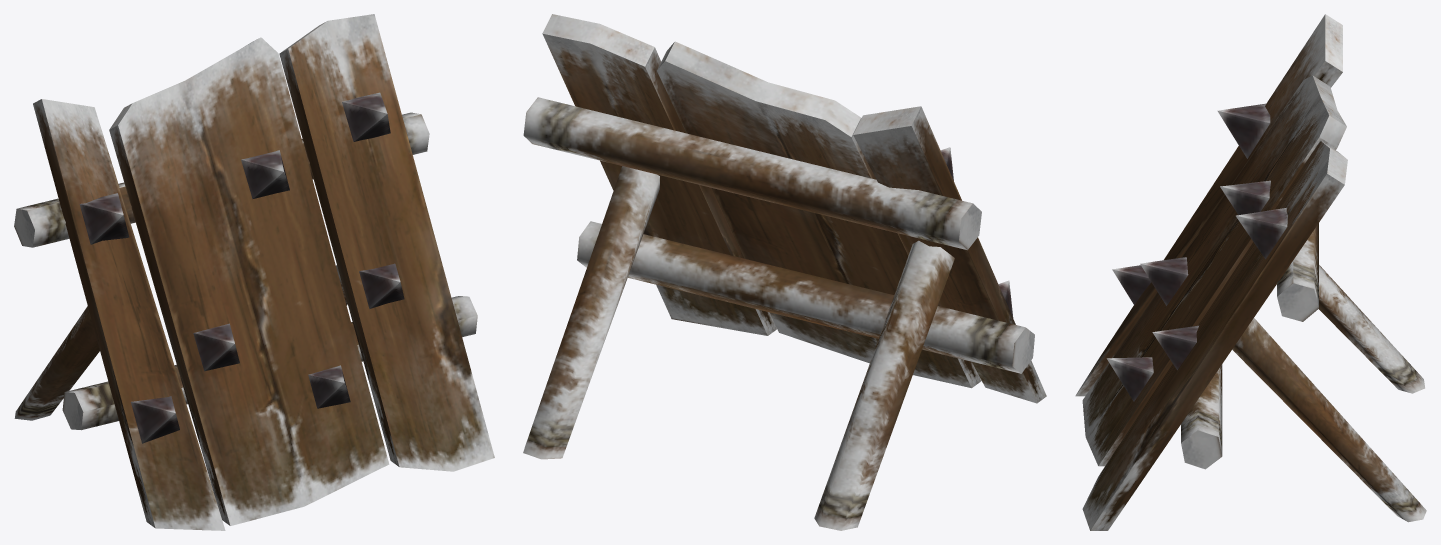
File: SV_AFT_snow_zhalan1_0.FBX
3 views of the same model, side by side, from view 1: azimuth 30°, elevation 25°; view 2: azimuth 150°, elevation 25°; view 3: azimuth 270°, elevation 25° (orthographic). The views are drawn at different scales.
Parts seen in each view (by area): view 1: SV_AFT_snow_zhalan1_0; view 2: SV_AFT_snow_zhalan1_0; view 3: SV_AFT_snow_zhalan1_0.
Boxes of the visible parts, <box> form: SV_AFT_snow_zhalan1_0: <box>14,14,494,530</box>; SV_AFT_snow_zhalan1_0: <box>523,14,1046,530</box>; SV_AFT_snow_zhalan1_0: <box>1075,14,1426,530</box>.
Bounding box in the file's own units: 2.73 × 2.38 × 2.11.
